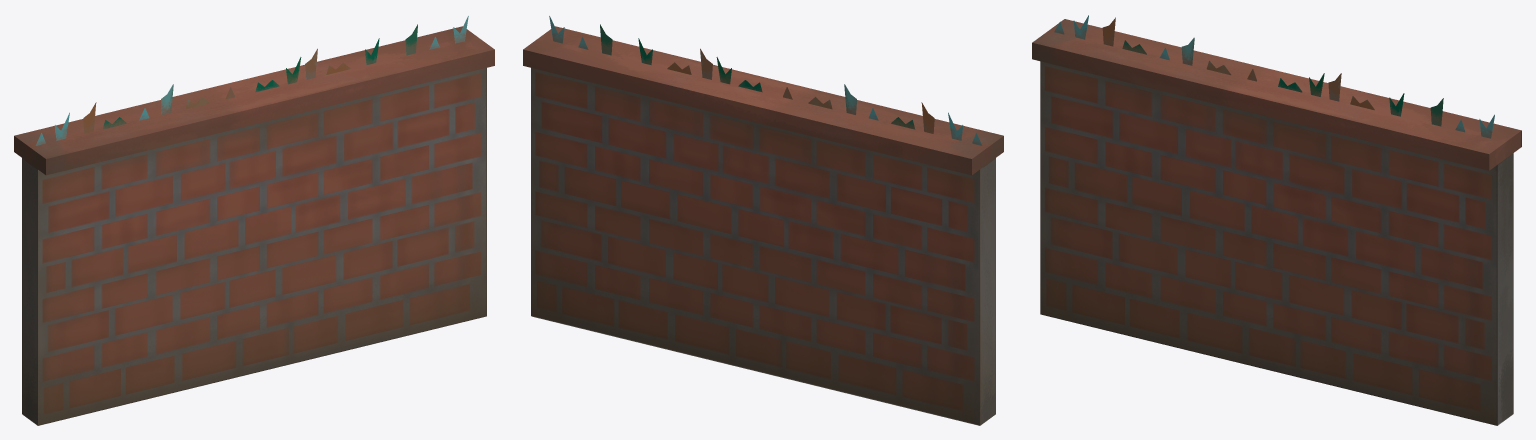
Rendered from MuroLad.fbx.
3 views of the same model, side by side, from view 1: azimuth 30°, elevation 25°; view 2: azimuth 150°, elevation 25°; view 3: azimuth 330°, elevation 25° (orthographic).
Visible parts, largest first — view 1: Muro; view 2: Muro; view 3: Muro.
Boxes of the visible parts, x1,y1,x2,y2 form: Muro: [14, 16, 494, 425]; Muro: [523, 16, 1003, 425]; Muro: [1032, 15, 1521, 425].
Bounding box in the file's own units: 1378 × 887 × 170.
